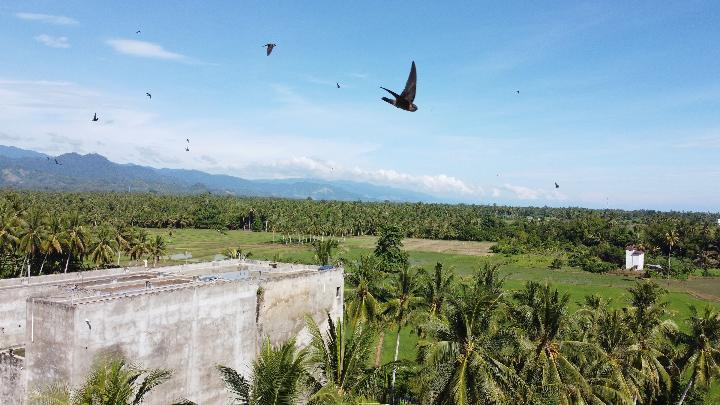walet: (378, 60, 420, 112)
